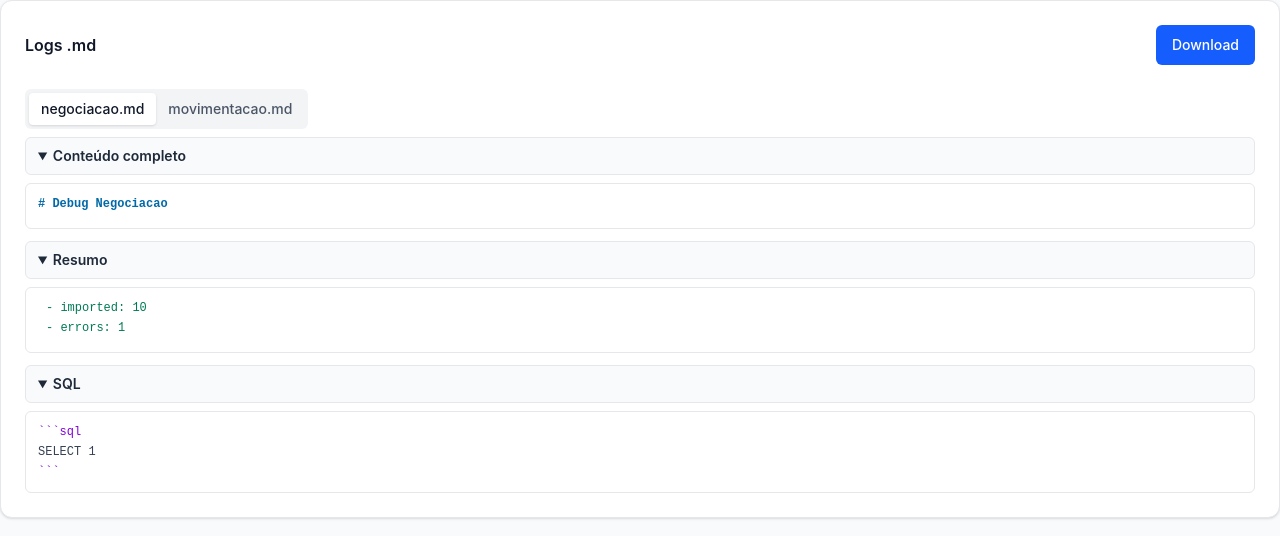
Test: LogViewer › troca de arquivo e mostra conteudo correspondente
Click the tab "movimentacao.md". click: (230, 109)
box: [156, 93, 304, 125]
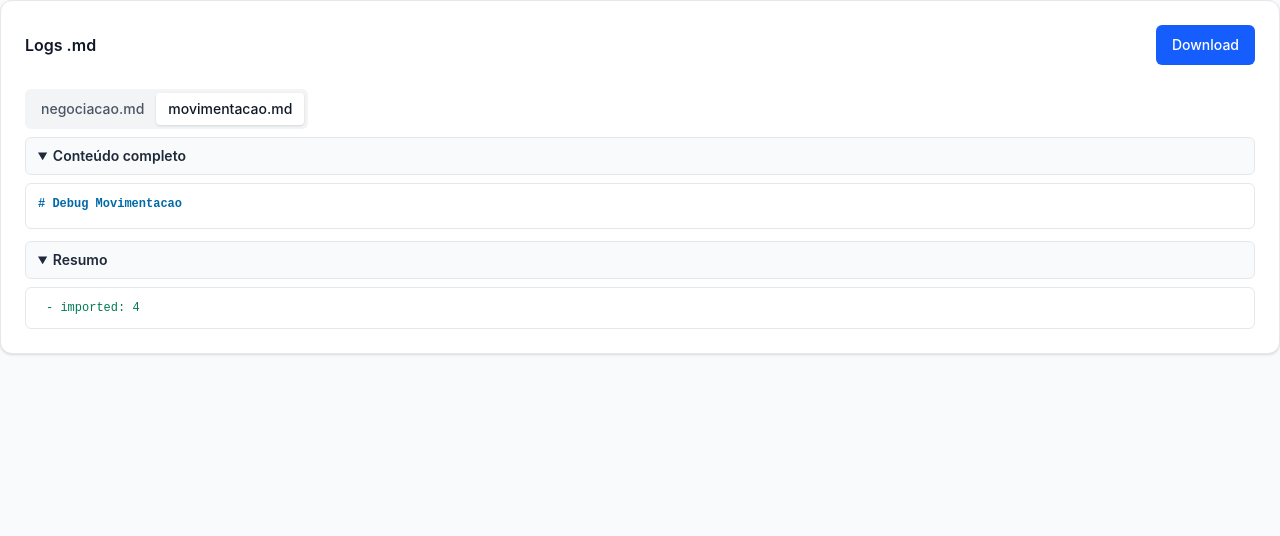
Now the text "# Debug Movimentacao" is shown, box [38, 197, 182, 211]
Now the text "# Debug Negociacao" is gone
